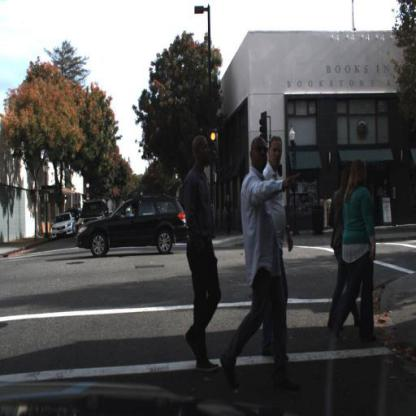car: (78, 194, 189, 262), (77, 195, 109, 233), (81, 201, 109, 223)
pedestrian: (240, 131, 277, 391), (261, 136, 295, 359), (190, 133, 220, 374), (344, 154, 378, 344), (332, 161, 350, 337)
trafficLight-Red: (208, 127, 220, 164)
